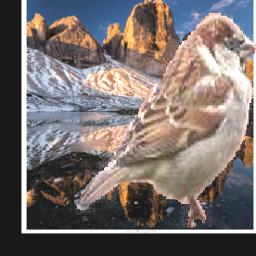Sparrow: (73, 14, 256, 229)
